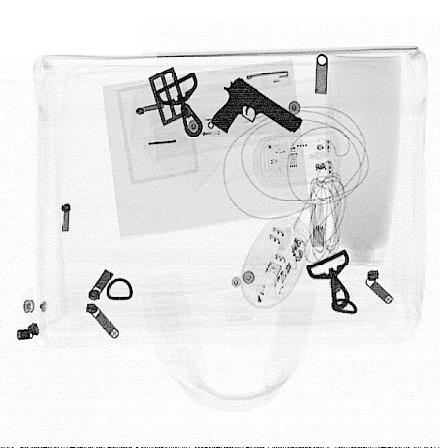Gun: (211, 77, 304, 135)
